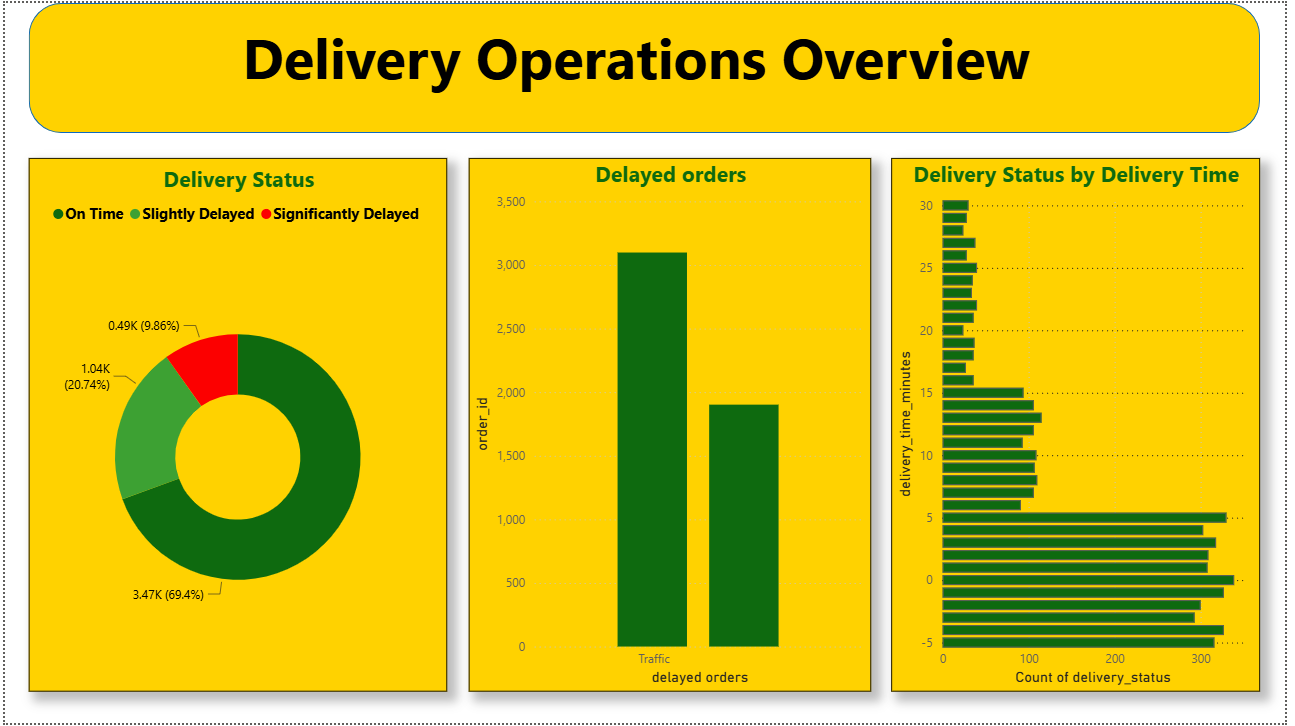

What the dashboard file says about the page in this screenshot:
{"tool":"powerbi","page":{"name":"Page 2","canvas":[1280,720],"ordinal":1},"visuals":[{"type":"clusteredBarChart","title":"Delivery Status by Delivery Time","fields":{"Y":["CountNonNull(blinkit_delivery_performance.delivery_status)"],"Category":["blinkit_delivery_performance.delivery_time_minutes"]},"box":[886.2,155,368.8,533.8],"z":0},{"type":"clusteredColumnChart","title":"Delayed orders ","fields":{"Category":["blinkit_delivery_performance.reasons_if_delayed"],"Y":["CountNonNull(blinkit_delivery_performance.order_id)"]},"box":[463.8,155,402.5,533.8],"z":1000},{"type":"pieChart","title":"Delivery Status","fields":{"Category":["blinkit_delivery_performance.delivery_status"],"Y":["CountNonNull(blinkit_delivery_performance.order_id)"]},"box":[23.8,155,418.8,533.8],"z":2000},{"type":"shape","title":"Delivery Operations Overview","box":[23.8,0,1231.2,130],"z":3000},{"type":"textbox","box":[100,10,1062.5,111.2],"z":4000}]}

Visuals, with their boxes in screenshot pixels (x1, y1, x2, y2), scaled from the page's 1280x720 canvas onto the 1295x726 screenshot:
"Delivery Status by Delivery Time" clusteredBarChart: (897,156,1270,695)
"Delayed orders " clusteredColumnChart: (469,156,876,695)
"Delivery Status" pieChart: (24,156,448,695)
"Delivery Operations Overview" shape: (24,0,1270,131)
textbox: (101,10,1176,122)
